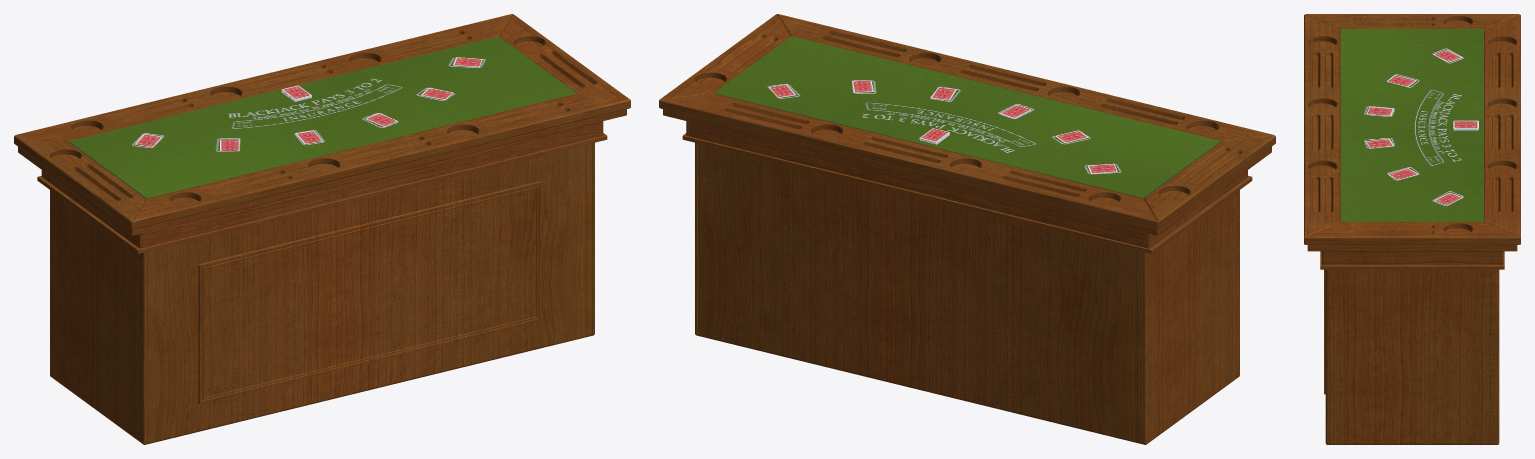
Rendered from Poker Table.FBX.
3 views of the same model, side by side, from view 1: azimuth 30°, elevation 25°; view 2: azimuth 150°, elevation 25°; view 3: azimuth 270°, elevation 25° (orthographic). The views are drawn at different scales.
Parts seen in each view (by area): view 1: Poker Table; view 2: Poker Table; view 3: Poker Table.
Boxes of the visible parts, box(x1,y1,x2,y2) form: Poker Table: box(14, 14, 630, 444); Poker Table: box(659, 14, 1275, 444); Poker Table: box(1304, 14, 1520, 444).
Size of the model in its own units: 190 by 87.77 by 77.84.
3 materials, 3 textured.
